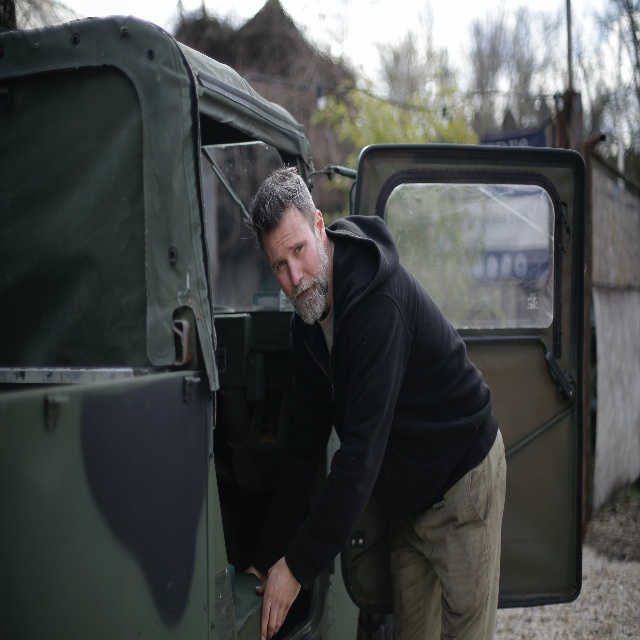Sin_guantes: (255, 558, 303, 634)
